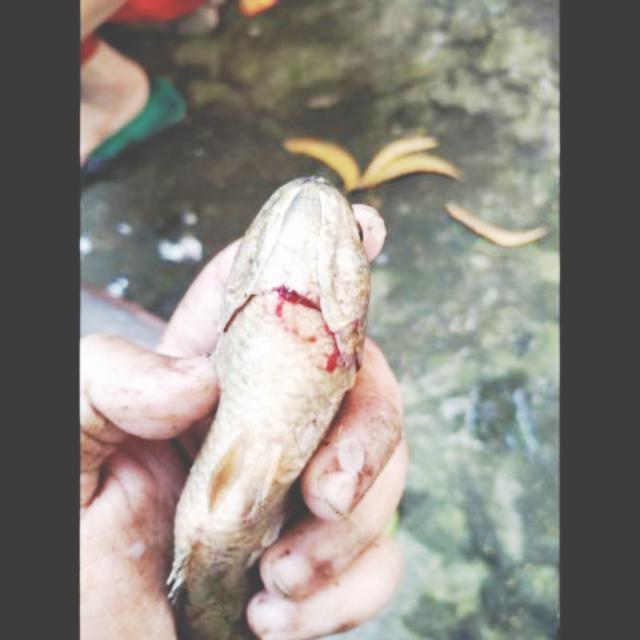Flavobacterium -Bacterial Gill Disease-: (168, 178, 370, 639)
